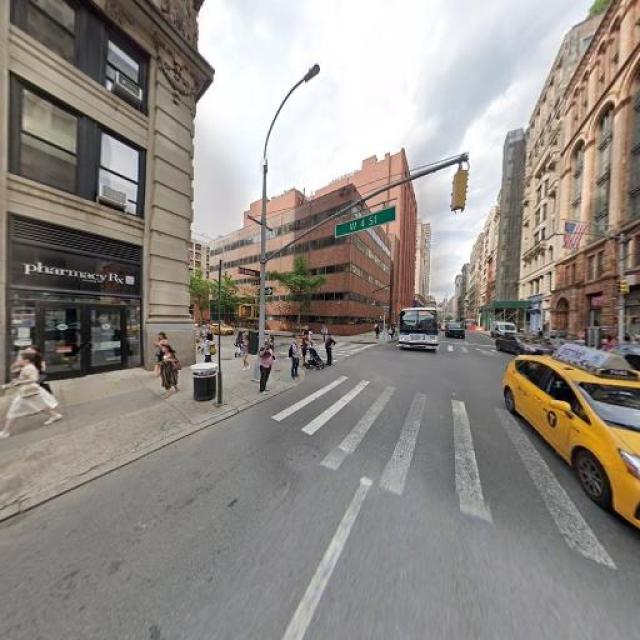Building: (1, 1, 192, 393), (523, 1, 640, 350), (214, 184, 392, 335)
